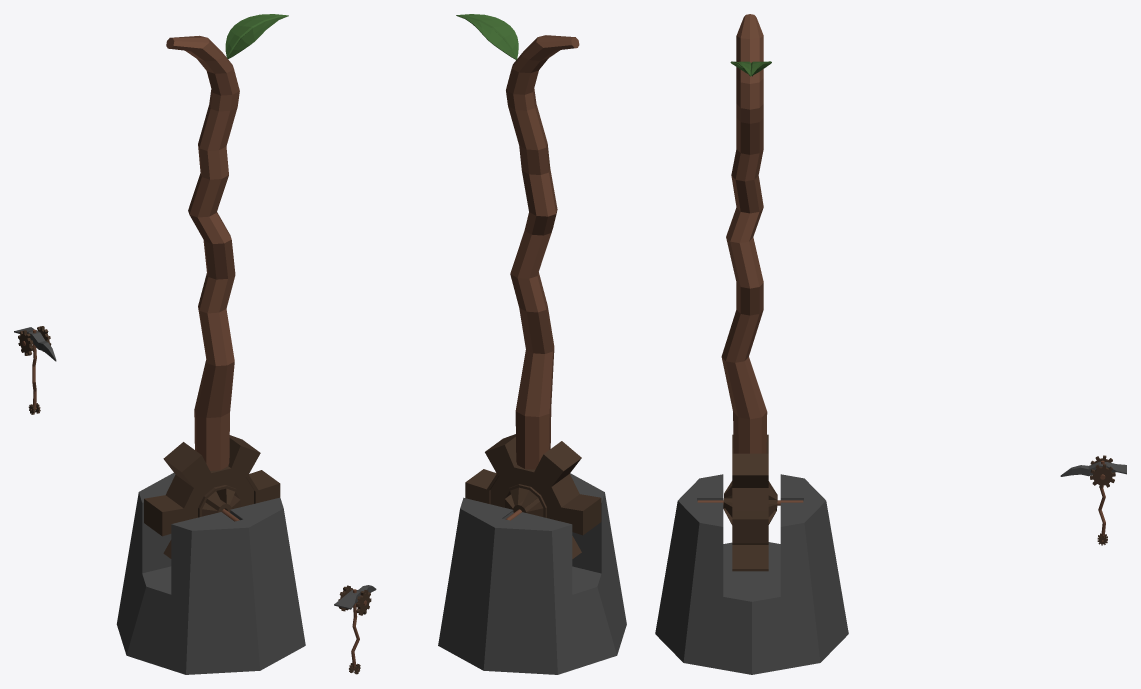
The model's file is pioche usine.fbx.
3 renders of one model, left to right at view 1: azimuth 30°, elevation 25°; view 2: azimuth 150°, elevation 25°; view 3: azimuth 270°, elevation 25°, orthographic.
Parts seen in each view (by area): view 1: tronc, manche 1, Cercle.005, Cercle.006; view 2: tronc, manche 1, Cercle.005, Cercle.006; view 3: tronc, manche 1, Cercle.005.
Boxes of the visible parts, box(x1,y1,x2,y2) form: tronc: box(116, 473, 305, 674); manche 1: box(166, 35, 239, 470); Cercle.005: box(144, 435, 280, 558); Cercle.006: box(225, 14, 288, 58); tronc: box(438, 473, 626, 674); manche 1: box(506, 35, 579, 469); Cercle.005: box(465, 434, 601, 558); Cercle.006: box(456, 14, 518, 60); tronc: box(655, 474, 848, 674); manche 1: box(721, 14, 767, 453); Cercle.005: box(723, 434, 777, 571).
Size of the model in its own units: 938 by 3211 by 2285.
